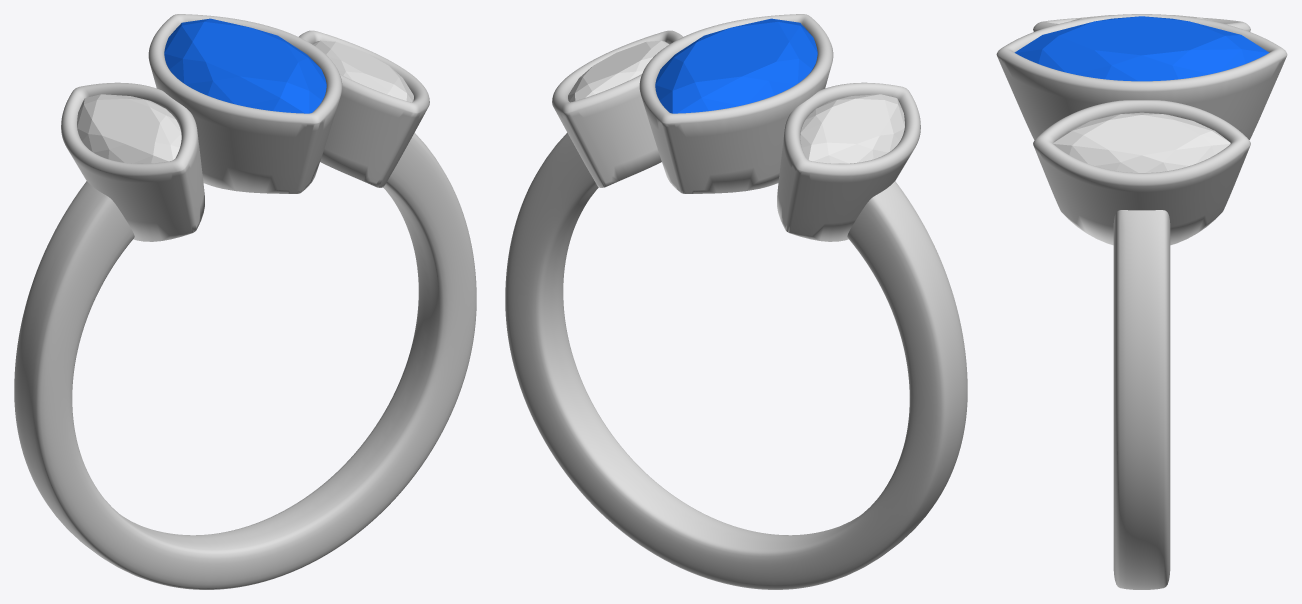
The model's file is bluesapphire-marquise-platinum-bezelset-straightband-3stone.glb.
3 views of the same model, side by side, from view 1: azimuth 30°, elevation 25°; view 2: azimuth 150°, elevation 25°; view 3: azimuth 270°, elevation 25° (orthographic).
Visible parts, largest first — view 1: metal.002, stone.003, side.007, side.006; view 2: metal.002, stone.003, side.007, side.006; view 3: metal.002, stone.003, side.006.
Part boxes in pixels (x1,y1,x2,y2): metal.002: [14, 14, 476, 589]; stone.003: [164, 18, 326, 113]; side.007: [77, 94, 181, 163]; side.006: [312, 40, 413, 102]; metal.002: [505, 14, 967, 589]; stone.003: [655, 18, 817, 113]; side.007: [800, 94, 904, 163]; side.006: [568, 40, 669, 102]; metal.002: [996, 14, 1287, 589]; stone.003: [1014, 16, 1269, 81]; side.006: [1053, 112, 1230, 172].
Size of the model in its own units: 20.1 by 22.73 by 11.31.
